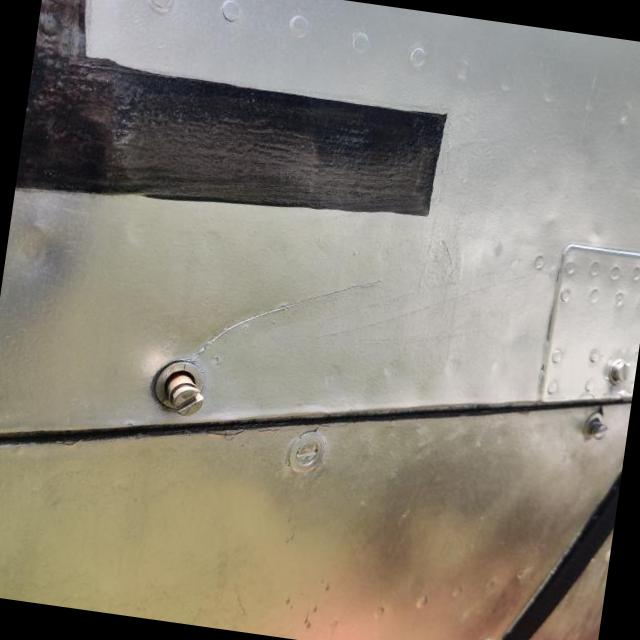Scratch: (187, 278, 387, 368)
